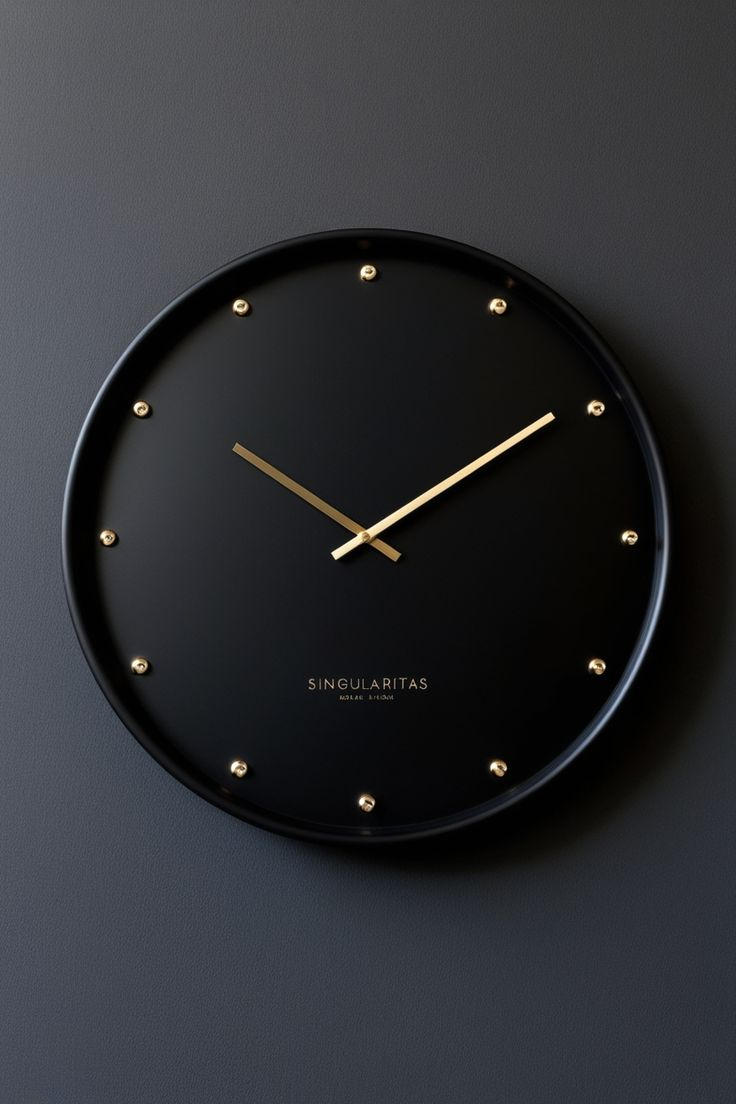clock: (55, 203, 707, 880)
